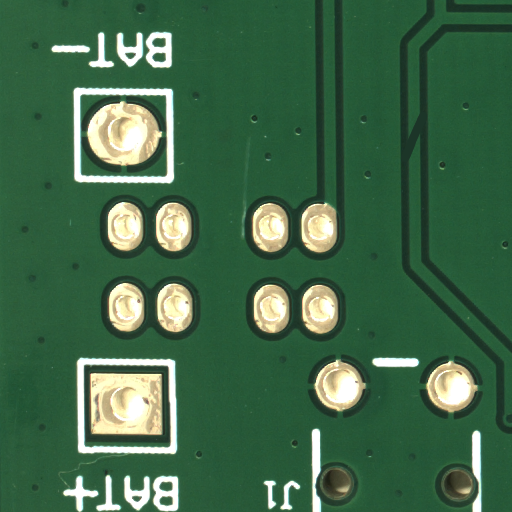Open_circuit: (414, 136, 434, 186)
